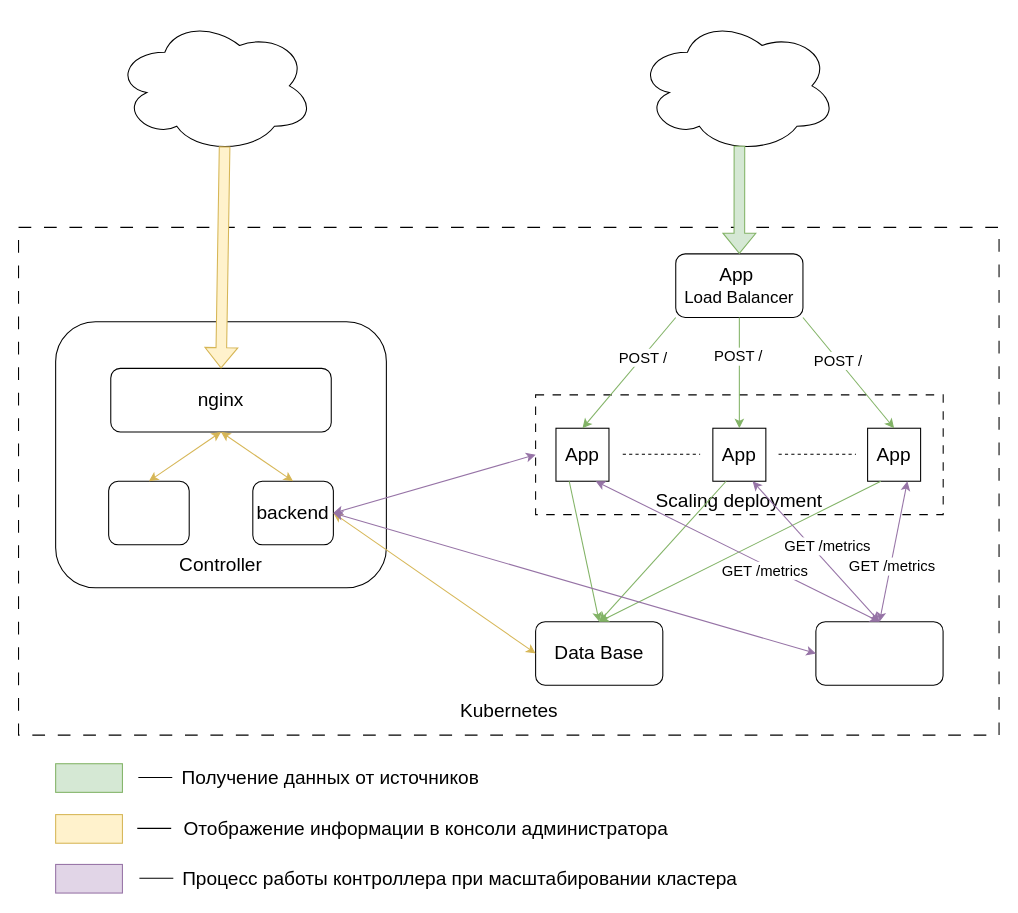
Some shapes in this 1018 by 913 pixel diagram are drawn without their labels. The shapes that lost their labels are listed below. From the top down, each one's centre as x and y in pixels, then its label:
point 214,85: Administrator
point 737,85: Data senders
point 148,512: frontend
point 879,653: Prometheus
